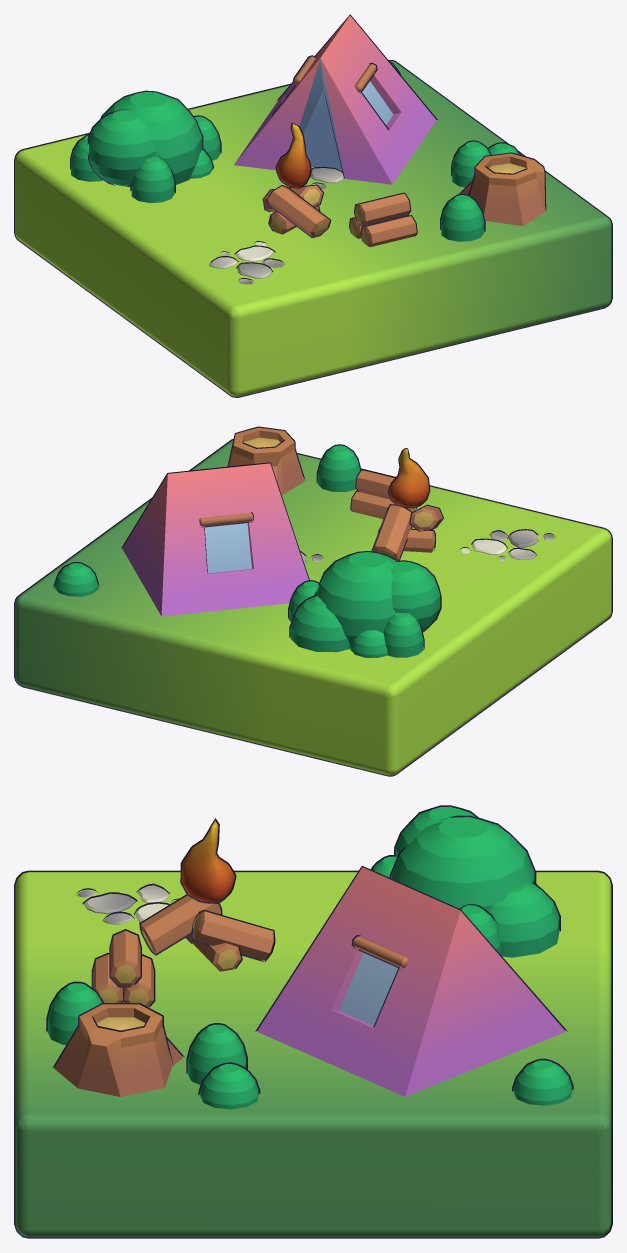
File: isla bosque 2.fbx
3 views of the same model, one above another, from view 1: azimuth 30°, elevation 25°; view 2: azimuth 150°, elevation 25°; view 3: azimuth 270°, elevation 25° (orthographic). The views are drawn at different scales.
Parts seen in each view (by area): view 1: group20_pDisc1, group20_pDisc2; view 2: group20_pDisc1, group20_pDisc2; view 3: group20_pDisc1, group20_pDisc2.
Boxes of the visible parts, x1,y1,x2,y2 form: group20_pDisc1: (15,15,611,396); group20_pDisc2: (14,14,612,397); group20_pDisc1: (15,427,611,775); group20_pDisc2: (14,426,612,776); group20_pDisc1: (15,806,611,1237); group20_pDisc2: (14,805,612,1238).
Bounding box in the file's own units: 14.13 × 6.97 × 14.13.
